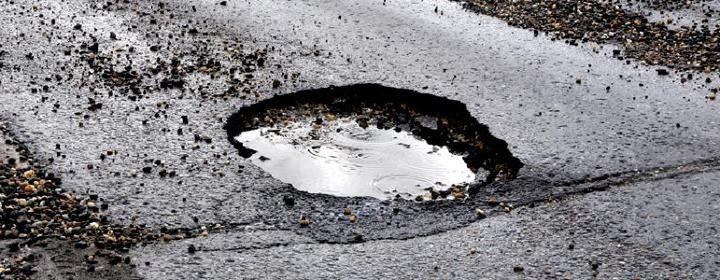pothole: (215, 77, 528, 202)
